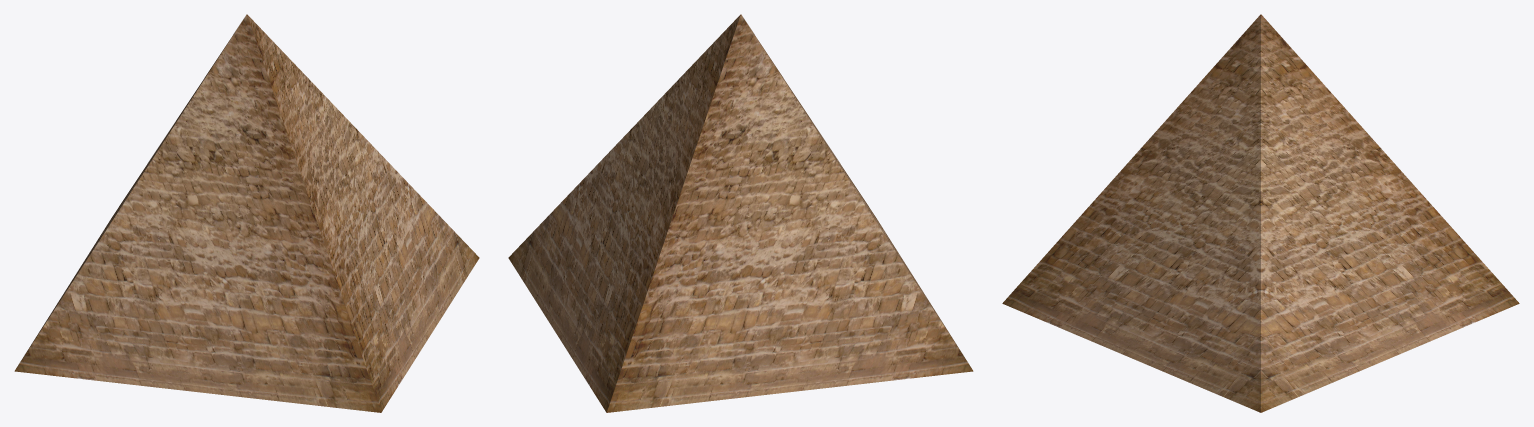
The picture shows the model from 3 angles, left to right: view 1: azimuth 30°, elevation 25°; view 2: azimuth 150°, elevation 25°; view 3: azimuth 270°, elevation 25°; orthographic projection. The views are drawn at different scales.
Visible parts, largest first — view 1: pPyramid1; view 2: pPyramid1; view 3: pPyramid1.
Boxes of the visible parts, x1,y1,x2,y2 form: pPyramid1: (14, 14, 479, 412); pPyramid1: (508, 14, 973, 412); pPyramid1: (1002, 14, 1519, 412).
Size of the model in its own units: 1.84 by 1.13 by 1.84.
